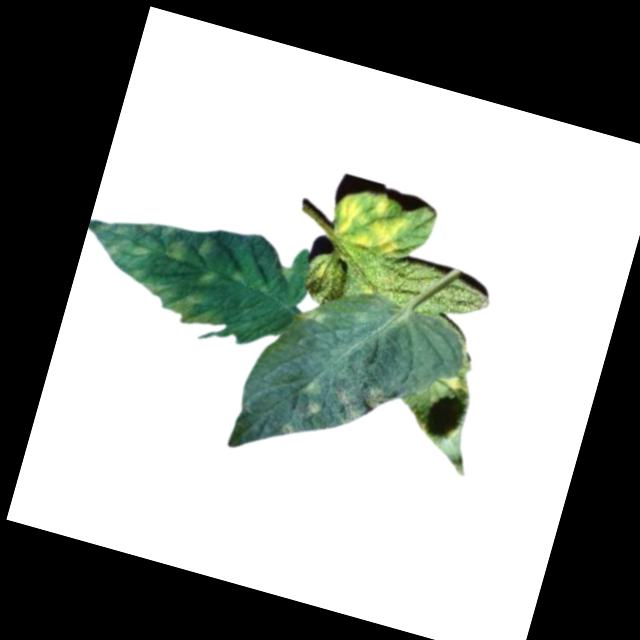Leaf_Mold: (327, 182, 414, 262), (128, 269, 230, 335), (331, 373, 394, 431), (292, 378, 326, 420), (160, 234, 195, 267), (191, 231, 220, 262), (296, 302, 329, 327)
